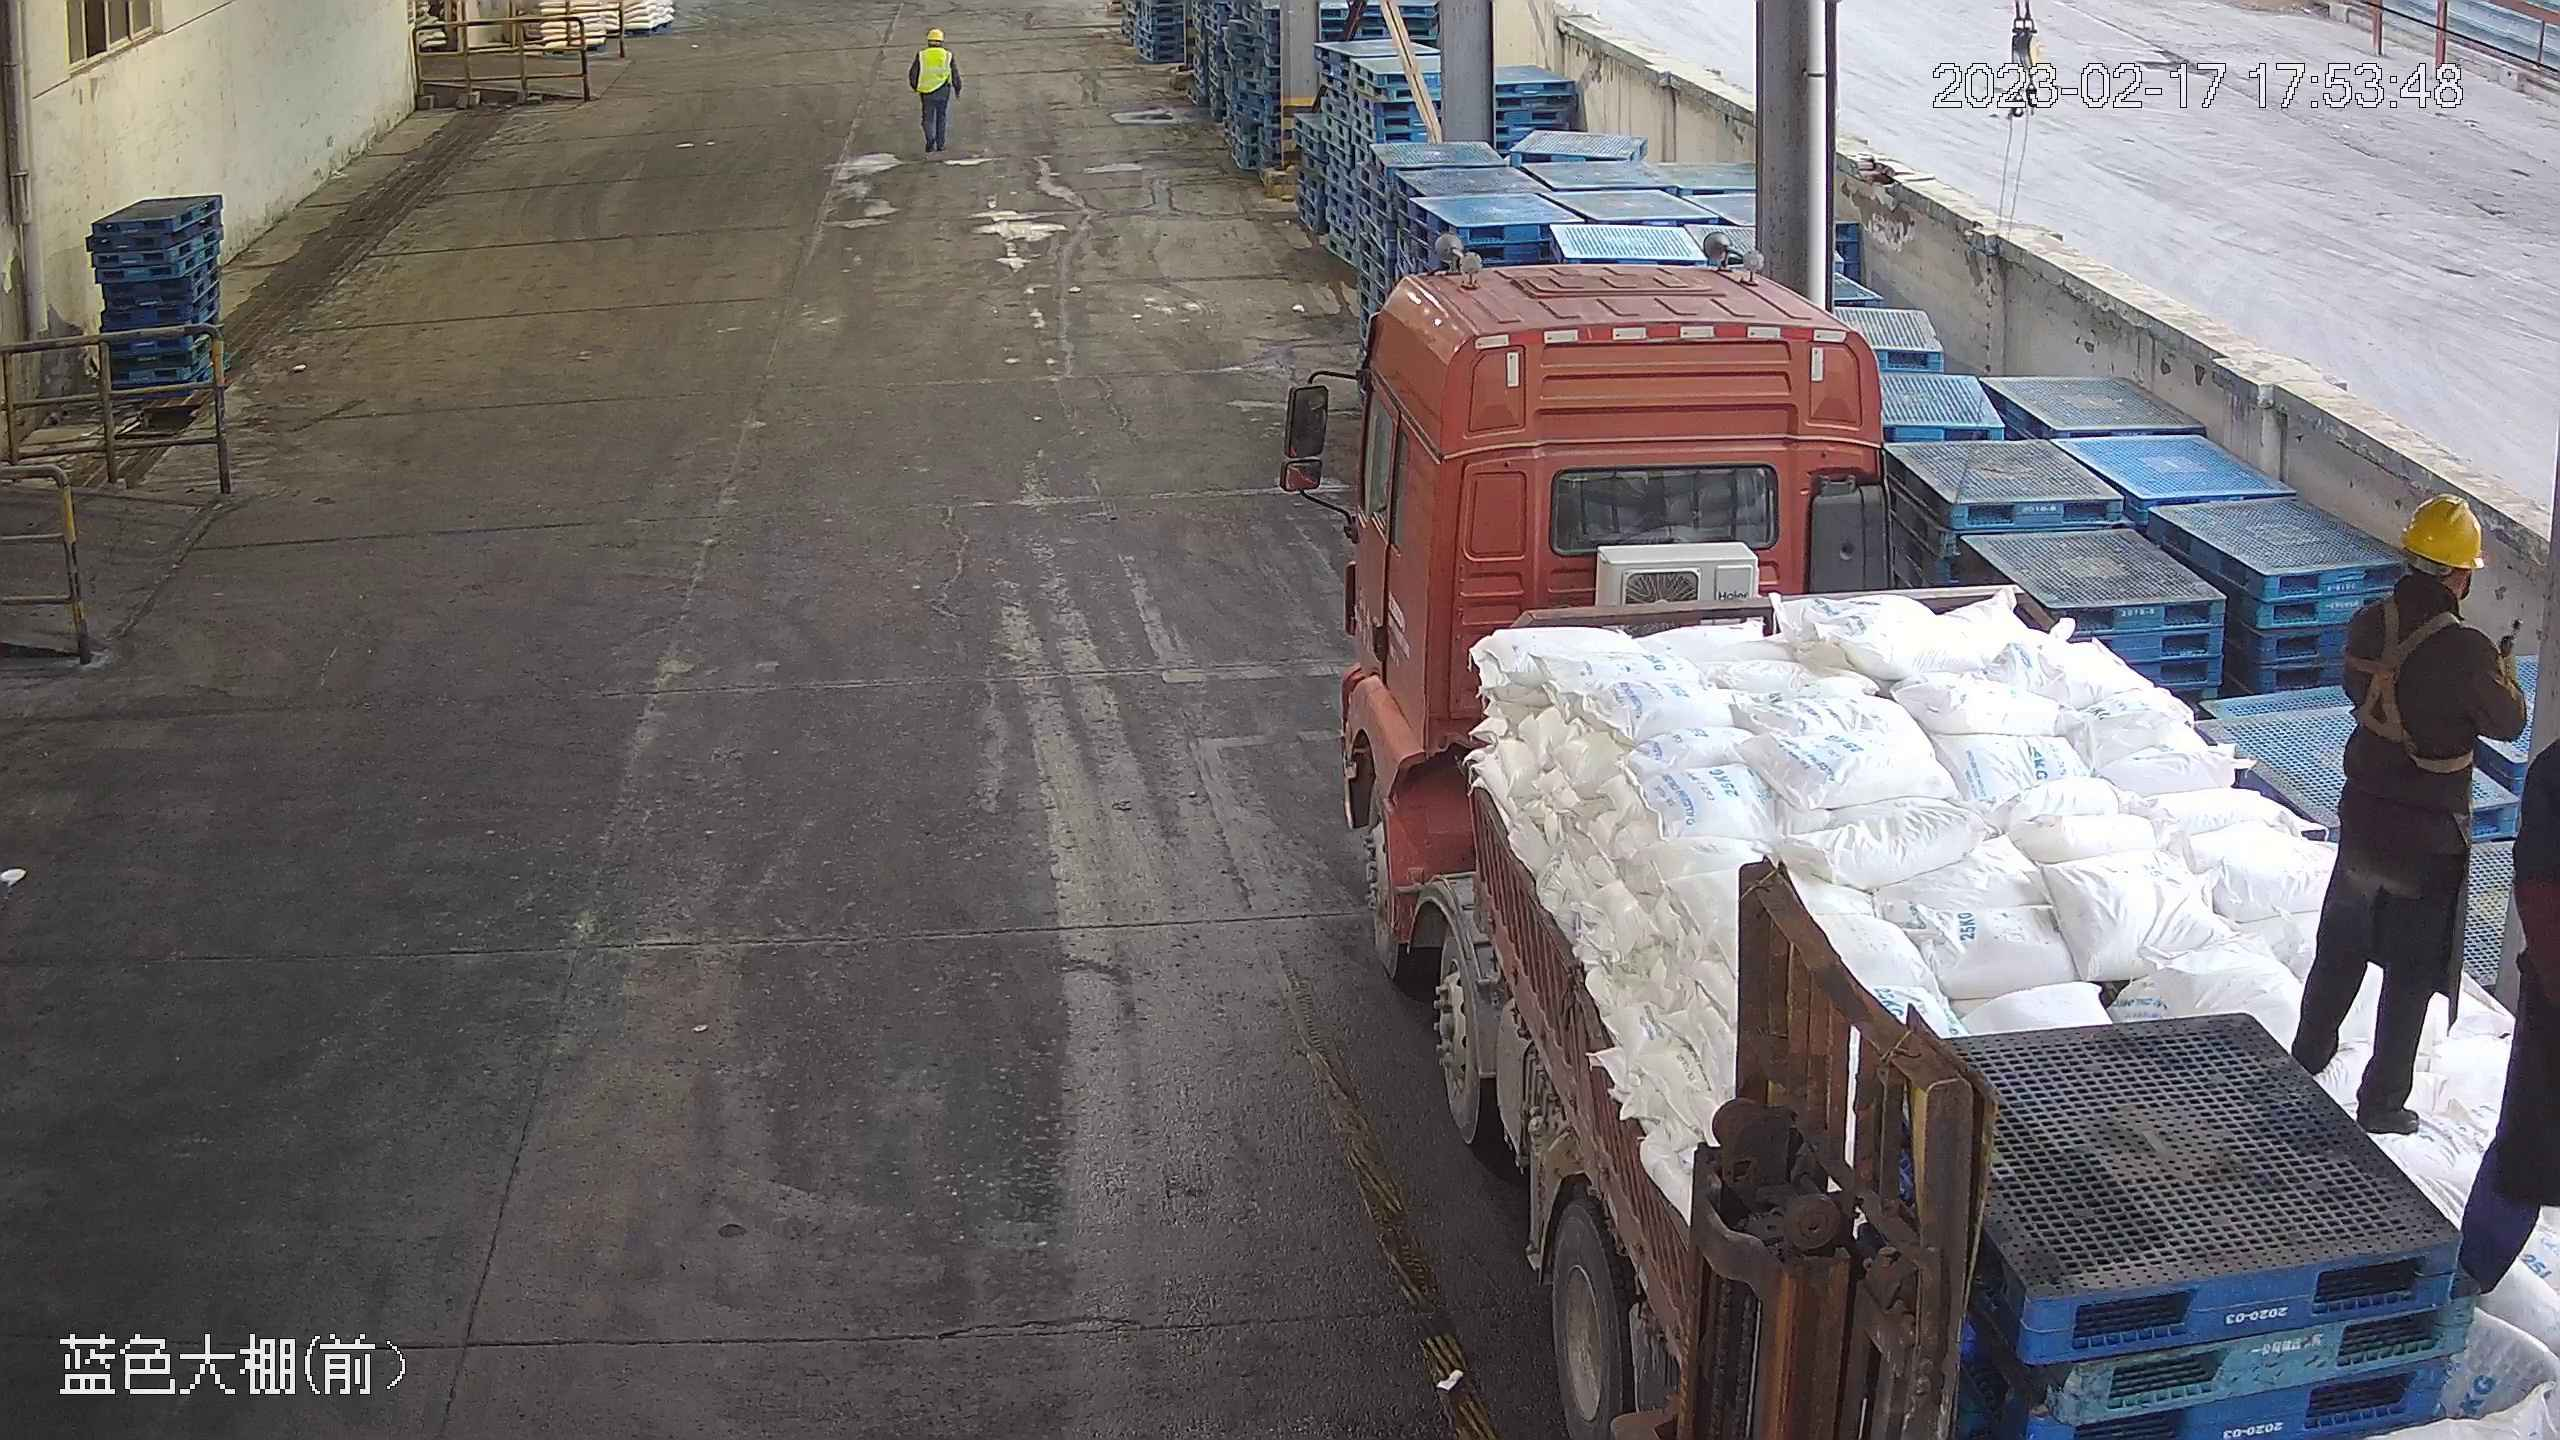belt: (2343, 597, 2478, 765)
head: (2338, 492, 2515, 701), (919, 25, 955, 61)
helmet: (2395, 489, 2489, 570), (927, 28, 945, 42)
people: (2281, 491, 2523, 1140), (905, 25, 964, 159)
truck: (1283, 231, 2559, 1440)
